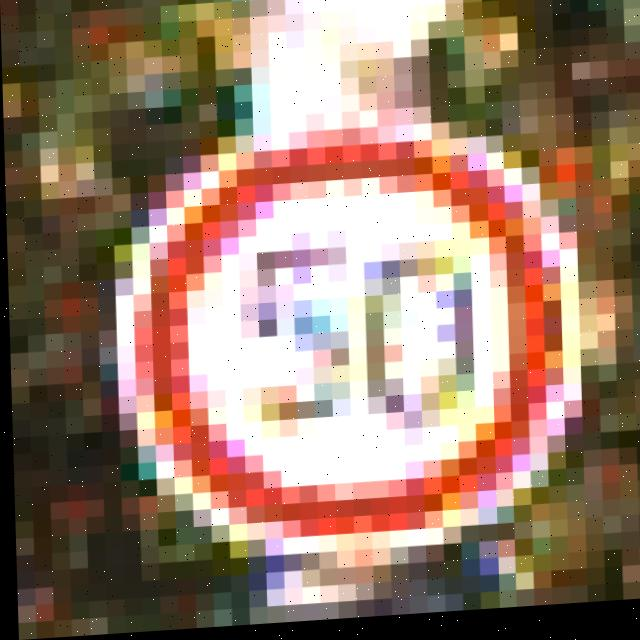speed_limit_50: (111, 125, 640, 565)
